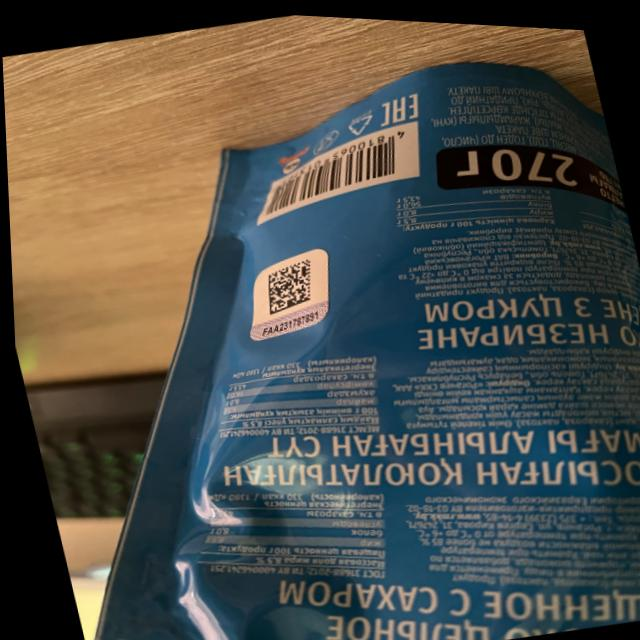datamatrix: (256, 254, 319, 315)
